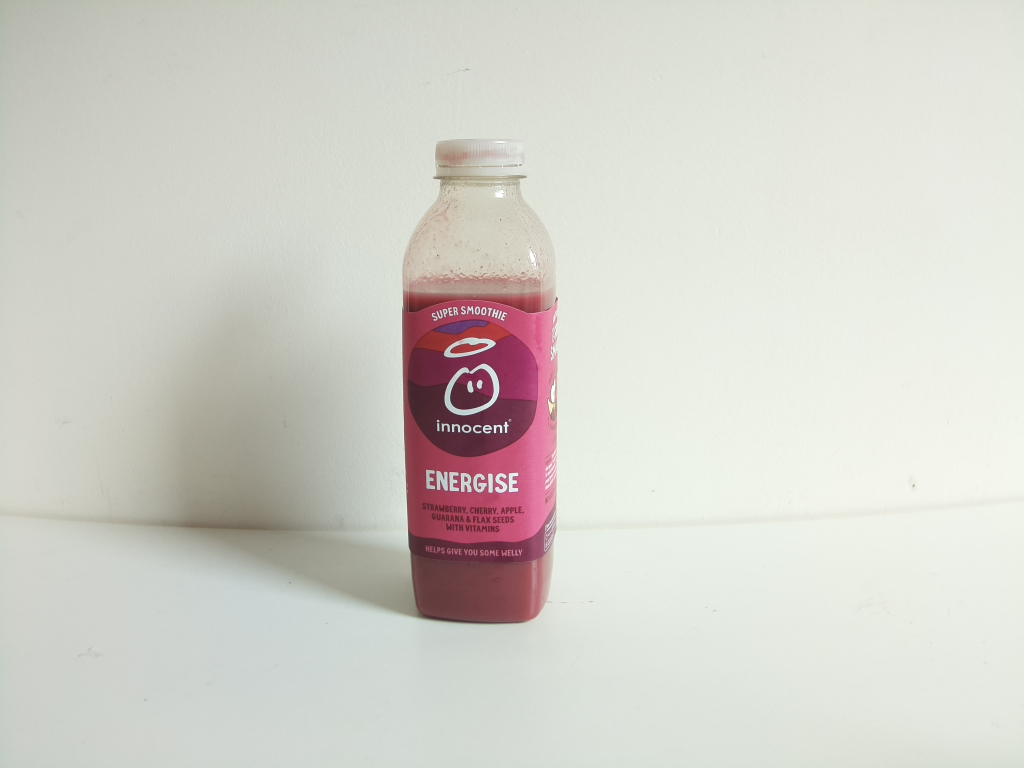juice: (394, 133, 568, 626)
